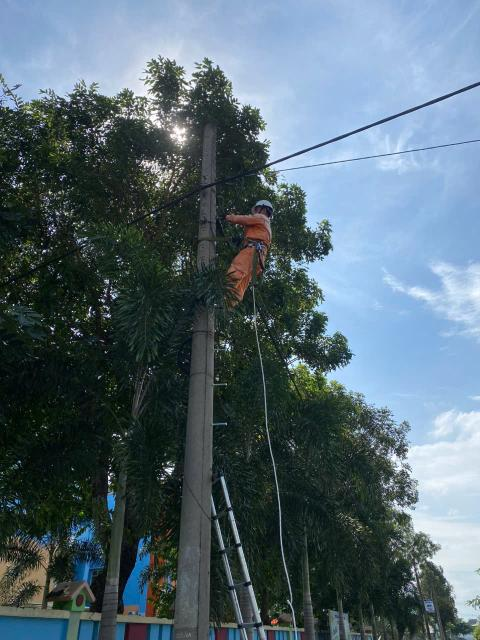gloves: (220, 209, 233, 227)
harness: (235, 235, 298, 266)
helmet: (249, 195, 288, 218)
shoes: (201, 291, 229, 320)
